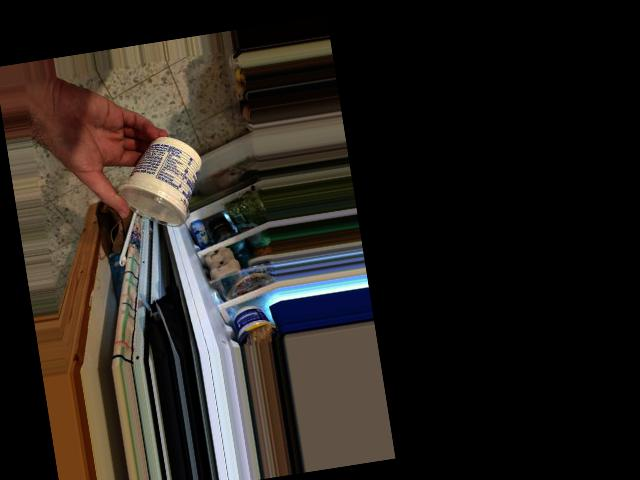cotage: (104, 134, 199, 223)
